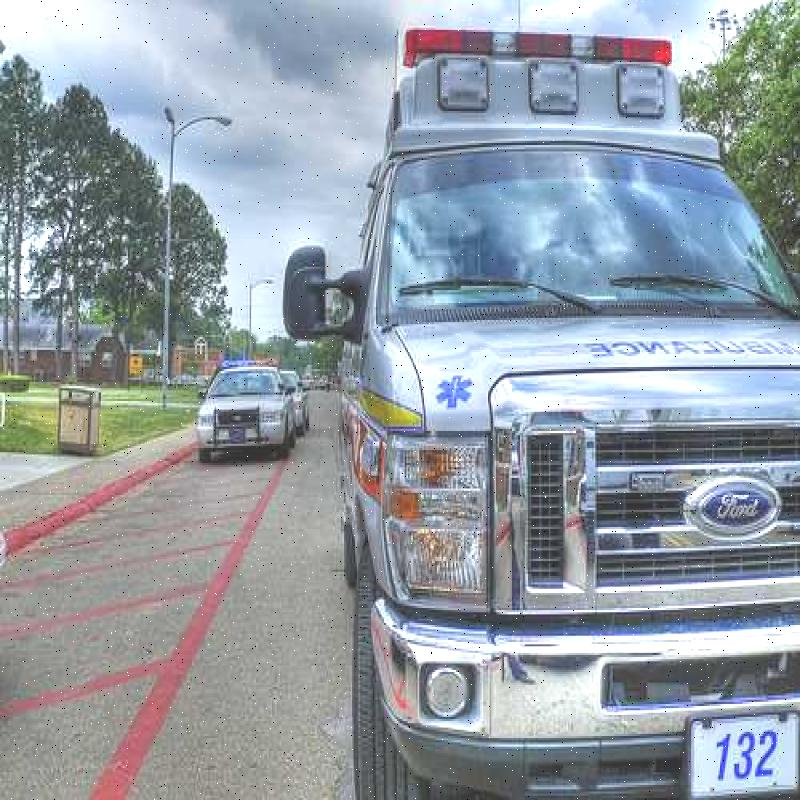AmbulanceSiren: (387, 1, 711, 82)
